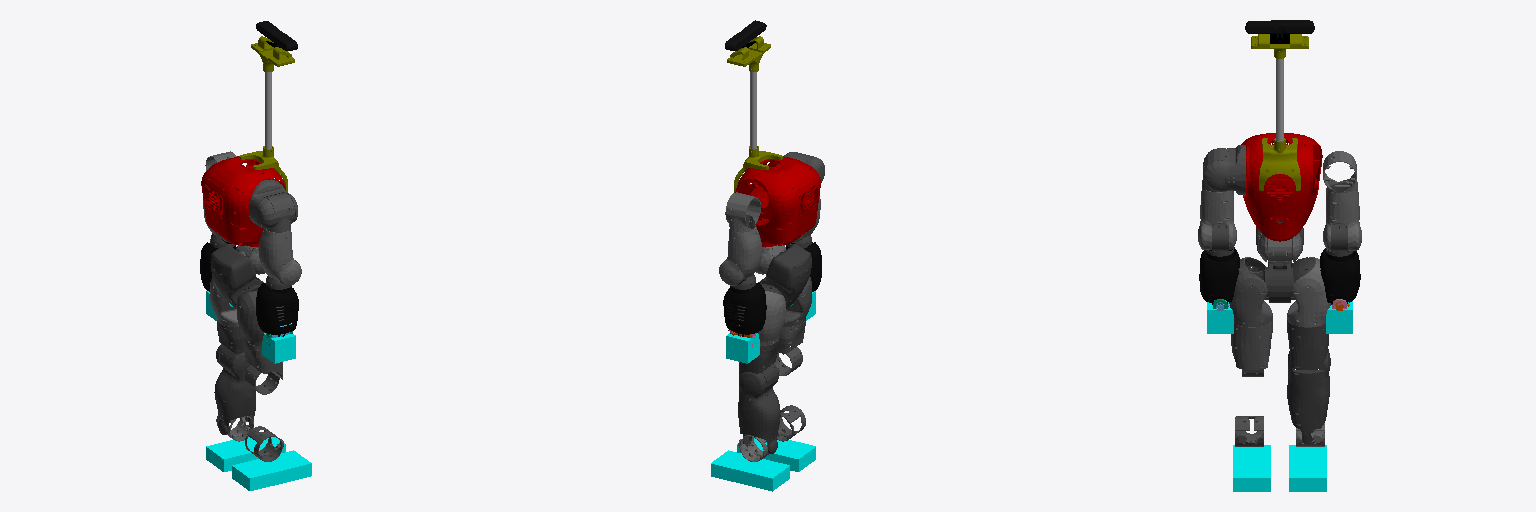
--- Facts derived from the render (not from the file) ---
The picture shows the robot from 3 angles, left to right: view 1: azimuth 30°, elevation 25°; view 2: azimuth 150°, elevation 25°; view 3: azimuth 270°, elevation 25°; orthographic projection.
Robot: COMAN — 45 links, 44 joints (31 revolute, 13 fixed); root link base_link; default pose: every joint at zero.
Links seen in each view (by area): view 1: DWYTorso, LLowLeg, RFoot, Xtion_body, Waist, RForearm, RShy, LFoot, RThighLowLeg, RShp, RThighUpLeg, RSoftHand (+5 smaller); view 2: DWYTorso, LLowLeg, LFoot, Xtion_body, Waist, LForearm, LShy, LShr, RFoot, LThighUpLeg, RThighLowLeg, LThighLowLeg (+4 smaller); view 3: DWYTorso, Xtion_body, LLowLeg, RThighUpLeg, LThighUpLeg, RThighLowLeg, LShy, RForearm, RFoot, LFoot, LForearm, LThighLowLeg (+10 smaller).
Boxes of the visible links, x1,y1,x2,y2 form: DWYTorso: [201, 156, 285, 246]; LLowLeg: [214, 344, 255, 434]; RFoot: [232, 450, 311, 490]; Xtion_body: [239, 36, 294, 192]; Waist: [210, 244, 263, 308]; RForearm: [256, 283, 298, 336]; RShy: [258, 229, 301, 285]; LFoot: [206, 437, 285, 471]; RThighLowLeg: [243, 340, 282, 394]; RShp: [249, 179, 297, 228]; RThighUpLeg: [236, 290, 283, 345]; RSoftHand: [262, 333, 295, 363]; DWYTorso: [735, 157, 820, 246]; LLowLeg: [738, 364, 780, 453]; LFoot: [711, 450, 789, 491]; Xtion_body: [727, 36, 782, 192]; Waist: [758, 244, 811, 308]; LForearm: [723, 280, 766, 336]; LShy: [719, 221, 761, 285]; LShr: [725, 192, 760, 232]; RFoot: [737, 438, 815, 471]; LThighUpLeg: [738, 291, 785, 345]; RThighLowLeg: [774, 320, 805, 375]; LThighLowLeg: [739, 340, 778, 391]; DWYTorso: [1241, 133, 1322, 241]; Xtion_body: [1251, 34, 1308, 190]; LLowLeg: [1287, 349, 1330, 444]; RThighUpLeg: [1229, 257, 1272, 326]; LThighUpLeg: [1287, 257, 1330, 326]; RThighLowLeg: [1231, 320, 1272, 376]; LShy: [1323, 181, 1361, 250]; RForearm: [1199, 247, 1239, 304]; RFoot: [1233, 445, 1270, 491]; LFoot: [1289, 445, 1326, 491]; LForearm: [1320, 248, 1360, 304]; LThighLowLeg: [1287, 320, 1328, 369].
Size in the robot's own frame: 0.2484 by 0.4296 by 1.33 metres.
27 mesh visuals loaded from 26 distinct referenced files (23 Collada DAE); not drawn: 3 (reference not matched to a file when rendering).

The robot description file, URDF, robot "COMAN":
<?xml version="1.0" ?>
<!-- =================================================================================== -->
<!-- |    This document was autogenerated by xacro from coman.urdf.xacro               | -->
<!-- |    EDITING THIS FILE BY HAND IS NOT RECOMMENDED                                 | -->
<!-- =================================================================================== -->
<robot name="COMAN" xmlns:xacro="http://ros.org/wiki/xacro">
  <!-- 
  ROS urdf definition of the COMAN humanoid robot by Istituto Italiano di Tecnologia
  
  DO NOT INCLUDE THIS FILE DIRECTLY! USE coman_robot.urdf.xacro INSTEAD!

  Author: Enrico Mingo & Alessio Rocchi

  Inertial matrix has to be in CoM frame (URDF specs)

  Velocity and effort limits are fake!
-->
  <!-- ************ MODEL CONFIGURATION ************ -->
  <!-- ******************** FAKE LINKS ******************** -->
  <!-- This links are defined in order to be compliant with http://www.ros.org/reps/rep-0120.html#coordinate-frames
and to define the end effectors of the robot -->
  <!-- The coordinate frame called base_link is rigidly attached to the robot root body. It is recommended to choose the robot waist as its root body. The base_link can be attached to the root in any arbitrary position or orientation; for every hardware platform there will be a different place on the base that provides an obvious point of reference. Note that REP 103 [1] specifies a preferred orientation for frames. -->
  <link name="base_link"/>
  <!-- position and orientation of the arm regardless of the tool (grasping device for instance) attached to it -->
  <link name="l_wrist"/>
  <link name="r_wrist"/>
  <!--  position and orientation of the leg regardless of the support body geometry -->
  <link name="l_ankle"/>
  <link name="r_ankle"/>
  <!-- position and orientation of the left leg support body. The (X,Y) plane of this frame must be coplanar with the support body contact surface. It is recommended to choose the origin as the projection of the support body origin on the contact surface. The Z coordinate of this frame should be on the ground level when standing. -->
  <link name="l_sole"/>
  <link name="r_sole"/>
  <!--  position and orientation of the leg toe body. The (X,Y) plan of this frame must be coplanar with the toe body contact surface. It is recommended to choose the origin as the projection of the body center on the contact surface. -->
  <link name="l_toe"/>
  <link name="r_toe"/>
  <!-- The coordinate frame called torso is attached to the lowest body of the model which is a parent of l_gripper, r_gripper and gaze. -->
  <link name="torso"/>
  <!-- Head -->
  <link name="Xtion_body">
    <inertial>
      <origin rpy="0 0 0" xyz="0.047 0.0 0.40"/>
      <mass value="0.39"/>
      <inertia ixx="0.01" ixy="3.34E-7" ixz="-2.66E-4" iyy="0.009" iyz="1.97E-6" izz="5.1E-4"/>
    </inertial>
    <visual>
      <origin rpy="0 0 -3.14159265359" xyz="-0.020281504 0.0 -0.68662053"/>
      <geometry name="Xtion_body_visual">
        <mesh filename="package://coman_urdf/meshes/collada/Xtion/xtion_base.dae" scale="0.03937 0.03937 0.03937"/>
      </geometry>
    </visual>
    <collision>
      <origin rpy="0 0 -3.14159265359" xyz="-0.020281504 0.0 -0.68662053"/>
      <geometry name="Xtion_body_collision">
        <mesh filename="package://coman_urdf/meshes/collada/simple/Xtion/xtion_base.stl" scale="0.03937 0.03937 0.03937"/>
      </geometry>
    </collision>
  </link>
  <link name="Xtion_cam_body">
    <inertial>
      <origin rpy="0 0 0" xyz="0.0 0.0 0.0225"/>
      <mass value="0.2"/>
      <inertia ixx="0.00053" ixy="0.0" ixz="0.0" iyy="0.00008" iyz="0.0" izz="0.00053"/>
    </inertial>
    <visual>
      <origin rpy="0 0 -3.14159265359" xyz="-0.0915 0.0 -1.2778"/>
      <geometry name="Xtion_cam_body_visual">
        <mesh filename="package://coman_urdf/meshes/collada/Xtion/xtion_cam_body.dae" scale="0.001 0.001 0.001"/>
      </geometry>
    </visual>
    <collision>
      <origin rpy="0 0 -3.14159265359" xyz="-0.0915 0.0 -1.2778"/>
      <geometry name="Xtion_cam_body_collision">
        <mesh filename="package://coman_urdf/meshes/collada/simple/Xtion/xtion_cam_body.stl" scale="0.001 0.001 0.001"/>
      </geometry>
    </collision>
  </link>
  <link name="gaze"/>
  <!-- ************ COMAN BASE ************** -->
  <link name="Waist">
    <inertial>
      <origin rpy="0 0 0" xyz="-0.026391145 -5.8216364E-4 0.052632312"/>
      <mass value="1.8008695"/>
      <inertia ixx="0.0051032982" ixy="-5.7170981E-5" ixz="0.0016920543" iyy="0.006241636" iyz="1.7225949E-5" izz="0.0024517762"/>
    </inertial>
    <visual>
      <origin rpy="0 0 -3.14159265359" xyz="0 0 -0.52"/>
      <geometry name="Waist_visual">
        <mesh filename="package://coman_urdf/meshes/collada/asm0001_collada_07_prt.dae" scale="0.03937 0.03937 0.03937"/>
      </geometry>
    </visual>
    <collision>
      <origin rpy="0 0 -3.14159265359" xyz="0 0 -0.52"/>
      <geometry name="Waist_collision">
        <mesh filename="package://coman_urdf/meshes/collada/simple/simple_asm0001_collada_07_prt.stl" scale="0.03937 0.03937 0.03937"/>
      </geometry>
    </collision>
  </link>
  <link name="DWL">
    <inertial>
      <origin rpy="0 0 0" xyz="4.2999707E-4 -0.0097650317 0.033011157"/>
      <mass value="0.54588774"/>
      <inertia ixx="9.7126578E-4" ixy="-7.2101244E-7" ixz="1.1440119E-6" iyy="7.4686706E-4" iyz="-1.7450917E-4" izz="6.2196235E-4"/>
    </inertial>
    <visual>
      <origin rpy="0 0 -3.14159265359" xyz="-0.020281504 0 -0.63912053"/>
      <geometry name="DWL_visual">
        <mesh filename="package://coman_urdf/meshes/collada/asm0001_collada_09_prt.dae" scale="0.03937 0.03937 0.03937"/>
      </geometry>
    </visual>
    <collision>
      <origin rpy="0 0 -3.14159265359" xyz="-0.020281504 0 -0.63912053"/>
      <geometry name="DWL_collision">
        <mesh filename="package://coman_urdf/meshes/collada/simple/simple_asm0001_collada_09_prt.stl" scale="0.03937 0.03937 0.03937"/>
      </geometry>
    </collision>
  </link>
  <link name="DWS">
    <inertial>
      <origin rpy="0 0 0" xyz="-0.0021273416 0.0033575235 -0.0010076896"/>
      <mass value="0.75398402"/>
      <inertia ixx="3.4093348E-4" ixy="-6.2120042E-6" ixz="-1.3863473E-6" iyy="3.9581916E-4" iyz="1.443019E-6" izz="3.7449753E-4"/>
    </inertial>
    <visual>
      <origin rpy="0 0 -3.14159265359" xyz="-0.020281504 0 -0.63912053"/>
      <geometry name="DWS_visual">
        <mesh filename="package://coman_urdf/meshes/collada/asm0001_collada_08_prt.dae" scale="0.03937 0.03937 0.03937"/>
      </geometry>
    </visual>
    <collision>
      <origin rpy="0 0 -3.14159265359" xyz="-0.020281504 0 -0.63912053"/>
      <geometry name="DWS_collision">
        <mesh filename="package://coman_urdf/meshes/collada/simple/simple_asm0001_collada_08_prt.stl" scale="0.03937 0.03937 0.03937"/>
      </geometry>
    </collision>
  </link>
  <link name="DWYTorso">
    <inertial>
      <origin rpy="0 0 0" xyz="-0.0358501 1.8286043E-5 0.117557148"/>
      <mass value="6.3617175"/>
      <inertia ixx="0.034089342" ixy="-9.8308572E-6" ixz="-7.5649290E-4" iyy="0.030117357" iyz="6.2443771E-6" izz="0.025296582"/>
    </inertial>
    <visual>
      <origin rpy="0 0 -3.14159265359" xyz="-0.020281504 0.0 -0.68662053"/>
      <geometry name="DWYTorso_visual">
        <mesh filename="package://coman_urdf/meshes/collada/asm0001_collada_10_prt.dae" scale="0.03937 0.03937 0.03937"/>
      </geometry>
    </visual>
    <collision>
      <origin rpy="0 0 -3.14159265359" xyz="-0.020281504 0.0 -0.68662053"/>
      <geometry name="DWYTorso_collision">
        <mesh filename="package://coman_urdf/meshes/collada/simple/simple_asm0001_collada_10_prt.stl" scale="0.03937 0.03937 0.03937"/>
      </geometry>
    </collision>
  </link>
  <link name="RHipMot">
    <inertial>
      <origin rpy="0 0 0" xyz="-3.269678E-4 -0.023587321 -2.6496509E-4"/>
      <mass value="0.89258227"/>
      <inertia ixx="4.7672294E-4" ixy="-3.9936567E-6" ixz="-2.4802574E-6" iyy="5.458038E-4" iyz="-3.3389575E-6" izz="5.126859E-4"/>
    </inertial>
    <visual>
      <origin rpy="0 0 -3.14159265359" xyz="0.0 0.023 -0.52"/>
      <geometry name="RHipMot_visual">
        <mesh filename="package://coman_urdf/meshes/collada/asm0001_collada_20_prt.dae" scale="0.03937 0.03937 0.03937"/>
      </geometry>
    </visual>
    <collision>
      <origin rpy="0 0 -3.14159265359" xyz="0.0 0.023 -0.52"/>
      <geometry name="RHipMot_collision">
        <mesh filename="package://coman_urdf/meshes/collada/simple/simple_asm0001_collada_20_prt.stl" scale="0.03937 0.03937 0.03937"/>
      </geometry>
    </collision>
  </link>
  <link name="RThighUpLeg">
    <inertial>
      <origin rpy="0 0 0" xyz="0.0012591632 -0.016896372 -0.058903336"/>
      <mass value="1.0246101"/>
      <inertia ixx="9.165719E-4" ixy="-1.4449904E-6" ixz="-1.6685011E-5" iyy="0.00104849584" iyz="2.5492874E-5" izz="6.8637197E-4"/>
    </inertial>
    <visual>
      <origin rpy="0 0 -3.14159265359" xyz="0.0 0.0726 -0.52"/>
      <geometry name="RThighUpLeg_visual">
        <mesh filename="package://coman_urdf/meshes/collada/asm0001_collada_19_prt.dae" scale="0.03937 0.03937 0.03937"/>
      </geometry>
    </visual>
    <collision>
      <origin rpy="0 0 -3.14159265359" xyz="0.0 0.0726 -0.52"/>
      <geometry name="RThighUpLeg_collision">
        <mesh filename="package://coman_urdf/meshes/collada/simple/simple_asm0001_collada_19_prt.stl" scale="0.03937 0.03937 0.03937"/>
      </geometry>
    </collision>
  </link>
  <link name="RThighLowLeg">
    <inertial>
      <origin rpy="0 0 0" xyz="9.8720058E-4 6.7037262E-4 -0.075716843"/>
      <mass value="1.7001134"/>
      <inertia ixx="0.0038979546" ixy="1.7802399E-6" ixz="2.6403262E-5" iyy="0.0039360845" iyz="4.522711E-5" izz="9.0218711E-4"/>
    </inertial>
    <visual>
      <origin rpy="0 0 -3.14159265359" xyz="0.0 0.0726 -0.4176"/>
      <geometry name="RThighLowLeg_visual">
        <mesh filename="package://coman_urdf/meshes/collada/asm0001_collada_18_prt.dae" scale="0.03937 0.03937 0.03937"/>
      </geometry>
    </visual>
    <collision>
      <origin rpy="0 0 -3.14159265359" xyz="0.0 0.0726 -0.4176"/>
      <geometry name="RThighLowLeg_collision">
        <mesh filename="package://coman_urdf/meshes/collada/simple/simple_asm0001_collada_18_prt.stl" scale="0.03937 0.03937 0.03937"/>
      </geometry>
    </collision>
  </link>
  <link name="RLowLeg">
    <inertial>
      <origin rpy="0 0 0" xyz="0.0024612666 -0.0053099614 -0.08598948"/>
      <mass value="1.4098179"/>
      <inertia ixx="0.0040604004" ixy="1.1227206E-5" ixz="1.2260973E-5" iyy="0.004005652855" iyz="5.1899176E-4" izz="0.0012414054"/>
    </inertial>
    <visual>
      <origin rpy="0 0 -3.14159265359" xyz="0.0 0.0726 -0.2942"/>
      <geometry name="RLowLeg_visual">
        <mesh filename="package://coman_urdf/meshes/collada/asm0001_collada_17_prt.dae" scale="0.03937 0.03937 0.03937"/>
      </geometry>
    </visual>
    <collision>
      <origin rpy="0 0 -3.14159265359" xyz="0.0 0.0726 -0.2942"/>
      <geometry name="RLowLeg_collision">
        <mesh filename="package://coman_urdf/meshes/collada/simple/simple_asm0001_collada_17_prt.stl" scale="0.03937 0.03937 0.03937"/>
      </geometry>
    </collision>
  </link>
  <link name="RFootmot">
    <inertial>
      <origin rpy="0 0 0" xyz="8.8067281E-4 -9.2224881E-4 2.3038476E-4"/>
      <mass value="0.72992131"/>
      <inertia ixx="3.2034425E-4" ixy="7.6346303E-6" ixz="2.5430158E-7" iyy="3.6584358E-4" iyz="-3.6889276E-6" izz="3.6065156E-4"/>
    </inertial>
    <visual>
      <origin rpy="0 0 -3.14159265359" xyz="0.0 0.0726 -0.0932"/>
      <geometry name="RFootmot_visual">
        <mesh filename="package://coman_urdf/meshes/collada/asm0001_collada_16_prt.dae" scale="0.03937 0.03937 0.03937"/>
      </geometry>
    </visual>
    <collision>
      <origin rpy="0 0 -3.14159265359" xyz="0.0 0.0726 -0.0932"/>
      <geometry name="RFootmot_collision">
        <mesh filename="package://coman_urdf/meshes/collada/simple/simple_asm0001_collada_16_prt.stl" scale="0.03937 0.03937 0.03937"/>
      </geometry>
    </collision>
  </link>
  <link name="RFoot">
    <inertial>
      <origin rpy="0 0 0" xyz="0.00969210464 -0.0090460227 -0.043062308"/>
      <mass value="0.66646684"/>
      <inertia ixx="0.0012944808" ixy="-9.2387693E-5" ixz="2.0080105E-4" iyy="0.0015851846" iyz="2.7599327E-4" izz="0.0013326766"/>
    </inertial>
    <visual>
      <origin rpy="0 0 0" xyz="0.03 0 -0.09"/>
      <geometry>
        <box size="0.2 0.1 0.04"/>
      </geometry>
      <material name="Cyan">
        <color rgba="0 1.0 1.0 1.0"/>
      </material>
    </visual>
    <collision>
      <origin rpy="0 0 0" xyz="0.03 0 -0.09"/>
      <geometry>
        <box size="0.2 0.1 0.04"/>
      </geometry>
    </collision>
  </link>
  <link name="LHipMot">
    <inertial>
      <origin rpy="0 0 0" xyz="-3.269678E-4 0.023587321 -2.6496509E-4"/>
      <mass value="0.89258227"/>
      <inertia ixx="4.7672294E-4" ixy="3.9936567E-6" ixz="-2.4802574E-6" iyy="5.458038E-4" iyz="3.3389575E-6" izz="5.126859E-4"/>
    </inertial>
    <visual>
      <origin rpy="0 0 -3.14159265359" xyz="0.0 -0.023 -0.52"/>
      <geometry name="RHipMot_visual">
        <mesh filename="package://coman_urdf/meshes/collada/asm0001_collada_06_prt.dae" scale="0.03937 0.03937 0.03937"/>
      </geometry>
    </visual>
    <collision>
      <origin rpy="0 0 -3.14159265359" xyz="0.0 -0.023 -0.52"/>
      <geometry name="RHipMot_collision">
        <mesh filename="package://coman_urdf/meshes/collada/simple/simple_asm0001_collada_06_prt.stl" scale="0.03937 0.03937 0.03937"/>
      </geometry>
    </collision>
  </link>
  <link name="LThighUpLeg">
    <inertial>
      <origin rpy="0 0 0" xyz="0.0012591632 0.016896372 -0.058903336"/>
      <mass value="1.0246101"/>
      <inertia ixx="9.165719E-4" ixy="1.4449904E-6" ixz="-1.6685011E-5" iyy="0.00104849584" iyz="-2.5492874E-5" izz="6.8637197E-4"/>
    </inertial>
    <visual>
      <origin rpy="0 0 -3.14159265359" xyz="0.0 -0.0726 -0.52"/>
      <geometry name="LThighUpLeg_visual">
        <mesh filename="package://coman_urdf/meshes/collada/asm0001_collada_05_prt.dae" scale="0.03937 0.03937 0.03937"/>
      </geometry>
    </visual>
    <collision>
      <origin rpy="0 0 -3.14159265359" xyz="0.0 -0.0726 -0.52"/>
      <geometry name="LThighUpLeg_collision">
        <mesh filename="package://coman_urdf/meshes/collada/simple/simple_asm0001_collada_05_prt.stl" scale="0.03937 0.03937 0.03937"/>
      </geometry>
    </collision>
  </link>
  <link name="LThighLowLeg">
    <inertial>
      <origin rpy="0 0 0" xyz="9.8720058E-4 -6.7037262E-4 -0.075716843"/>
      <mass value="1.7001134"/>
      <inertia ixx="0.0038979546" ixy="-1.7802399E-6" ixz="2.6403262E-5" iyy="0.0039360845" iyz="-4.5227110E-5" izz="9.0218711E-4"/>
    </inertial>
    <visual>
      <origin rpy="0 0 -3.14159265359" xyz="0.0 -0.0726 -0.4176"/>
      <geometry name="LThighLowLeg_visual">
        <mesh filename="package://coman_urdf/meshes/collada/asm0001_collada_04_prt.dae" scale="0.03937 0.03937 0.03937"/>
      </geometry>
    </visual>
    <collision>
      <origin rpy="0 0 -3.14159265359" xyz="0.0 -0.0726 -0.4176"/>
      <geometry name="LThighLowLeg_collision">
        <mesh filename="package://coman_urdf/meshes/collada/simple/simple_asm0001_collada_04_prt.stl" scale="0.03937 0.03937 0.03937"/>
      </geometry>
    </collision>
  </link>
  <link name="LLowLeg">
    <inertial>
      <origin rpy="0 0 0" xyz="0.0024612666 0.0053099614 -0.085989484"/>
      <mass value="1.4098179"/>
      <inertia ixx="0.0040604004" ixy="-1.1227206E-5" ixz="1.2260973E-5" iyy="0.004005652855" iyz="-5.1899176E-4" izz="0.0012414054"/>
    </inertial>
    <visual>
      <origin rpy="0 0 -3.14159265359" xyz="0.0 -0.0726 -0.2942"/>
      <geometry name="LLowLeg_visual">
        <mesh filename="package://coman_urdf/meshes/collada/asm0001_collada_03_prt.dae" scale="0.03937 0.03937 0.03937"/>
      </geometry>
    </visual>
    <collision>
      <origin rpy="0 0 -3.14159265359" xyz="0.0 -0.0726 -0.2942"/>
      <geometry name="LLowLeg_collision">
        <mesh filename="package://coman_urdf/meshes/collada/simple/simple_asm0001_collada_03_prt.stl" scale="0.03937 0.03937 0.03937"/>
      </geometry>
    </collision>
  </link>
  <link name="LFootmot">
    <inertial>
      <origin rpy="0 0 0" xyz="8.8067281E-4 9.2224881E-4 2.3038476E-4"/>
      <mass value="0.72992131"/>
      <inertia ixx="3.2034425E-4" ixy="-7.6346303E-6" ixz="2.5430158E-7" iyy="3.6584358E-4" iyz="3.6889276E-6" izz="3.6065156E-4"/>
    </inertial>
    <visual>
      <origin rpy="0 0 -3.14159265359" xyz="0.0 -0.0726 -0.0932"/>
      <geometry name="LFootmot_visual">
        <mesh filename="package://coman_urdf/meshes/collada/asm0001_collada_02_prt.dae" scale="0.03937 0.03937 0.03937"/>
      </geometry>
    </visual>
    <collision>
      <origin rpy="0 0 -3.14159265359" xyz="0.0 -0.0726 -0.0932"/>
      <geometry name="LFootmot_collision">
        <mesh filename="package://coman_urdf/meshes/collada/simple/simple_asm0001_collada_02_prt.stl" scale="0.03937 0.03937 0.03937"/>
      </geometry>
    </collision>
  </link>
  <link name="LFoot">
    <inertial>
      <origin rpy="0 0 0" xyz="0.0096921046 0.0090460227 -0.043062308"/>
      <mass value="0.66646684"/>
      <inertia ixx="0.0012944808" ixy="9.2387693E-5" ixz="2.0080105E-4" iyy="0.0015851846" iyz="-2.7599327E-4" izz="0.0013326766"/>
    </inertial>
    <visual>
      <origin rpy="0 0 0" xyz="0.03 0 -0.09"/>
      <geometry>
        <box size="0.2 0.1 0.04"/>
      </geometry>
      <material name="Cyan">
        <color rgba="0 1.0 1.0 1.0"/>
      </material>
    </visual>
    <collision>
      <origin rpy="0 0 0" xyz="0.03 0 -0.09"/>
      <geometry>
        <box size="0.2 0.1 0.04"/>
      </geometry>
    </collision>
  </link>
  <link name="RShp">
    <inertial>
      <origin rpy="0 0 0" xyz="0.0099500565 -0.038682024 1.6446924E-4"/>
      <mass value="0.56782202"/>
      <inertia ixx="7.8337456E-4" ixy="1.9035768E-4" ixz="-3.0037676E-6" iyy="6.3399921E-4" iyz="4.3840774E-6" izz="0.001008054"/>
    </inertial>
    <visual>
      <origin rpy="0 0 -3.14159265359" xyz="-0.005305 0.0825 -0.844329"/>
      <geometry name="RShp_visual">
        <mesh filename="package://coman_urdf/meshes/collada/asm0001_collada_24_prt.dae" scale="0.03937 0.03937 0.03937"/>
      </geometry>
    </visual>
    <collision>
      <origin rpy="0 0 -3.14159265359" xyz="-0.005305 0.0825 -0.844329"/>
      <geometry name="RShp_collision">
        <mesh filename="package://coman_urdf/meshes/collada/simple/simple_asm0001_collada_24_prt.stl" scale="0.03937 0.03937 0.03937"/>
      </geometry>
    </collision>
  </link>
  <link name="RShr">
    <inertial>
      <origin rpy="0 0 0" xyz="-0.0038936743 2.2022151E-6 -0.0048616005"/>
      <mass value="0.77683752"/>
      <inertia ixx="4.5812904E-4" ixy="-2.4111086E-7" ixz="9.2521185E-6" iyy="4.3089204E-4" iyz="-4.7216950E-7" izz="3.4174855E-4"/>
    </inertial>
    <visual>
      <origin rpy="0 0 -3.14159265359" xyz="-0.005305 0.1558 -0.844329"/>
      <geometry name="RShr_visual">
        <mesh filename="package://coman_urdf/meshes/collada/asm0001_collada_23_prt.dae" scale="0.03937 0.03937 0.03937"/>
      </geometry>
    </visual>
    <collision>
      <origin rpy="0 0 -3.14159265359" xyz="-0.005305 0.1558 -0.844329"/>
      <geometry name="RShr_collision">
        <mesh filename="package://coman_urdf/meshes/collada/simple/simple_asm0001_collada_23_prt.stl" scale="0.03937 0.03937 0.03937"/>
      </geometry>
    </collision>
  </link>
  <link name="RShy">
    <inertial>
      <origin rpy="0 0 0" xyz="0.0022714213 -0.0071091517 -0.057455221"/>
      <mass value="1.0462304"/>
      <inertia ixx="0.0030934574" ixy="6.6702837E-5" ixz="3.0222291E-4" iyy="0.0029181573" iyz="-5.2663661E-4" izz="8.0830389E-4"/>
    </inertial>
    <visual>
      <origin rpy="0 0 -3.14159265359" xyz="-0.005305 0.1558 -0.79952053"/>
      <geometry name="RShy_visual">
        <mesh filename="package://coman_urdf/meshes/collada/asm0001_collada_22_prt.dae" scale="0.03937 0.03937 0.03937"/>
      </geometry>
    </visual>
    <collision>
      <origin rpy="0 0 -3.14159265359" xyz="-0.005305 0.1558 -0.79952053"/>
      <geometry name="RShy_collision">
        <mesh filename="package://coman_urdf/meshes/collada/simple/simple_asm0001_collada_22_prt.stl" scale="0.03937 0.03937 0.03937"/>
      </geometry>
    </collision>
  </link>
  <link name="LShp">
    <inertial>
      <origin rpy="0 0 0" xyz="0.0099500565 0.038682024 1.6446924E-4"/>
      <mass value="0.56782202"/>
      <inertia ixx="7.8337456E-4" ixy="-1.9035768E-4" ixz="-3.0037676E-6" iyy="6.3399921E-4" iyz="-4.3840774E-6" izz="0.001008054"/>
    </inertial>
    <visual>
      <origin rpy="0 0 -3.14159265359" xyz="-0.005305 -0.0825 -0.844329"/>
      <geometry name="LShp_visual">
        <mesh filename="package://coman_urdf/meshes/collada/asm0001_collada_14_prt.dae" scale="0.03937 0.03937 0.03937"/>
      </geometry>
    </visual>
    <collision>
      <origin rpy="0 0 -3.14159265359" xyz="-0.005305 -0.0825 -0.844329"/>
      <geometry name="LShp_collision">
        <mesh filename="package://coman_urdf/meshes/collada/simple/simple_asm0001_collada_14_prt.stl" scale="0.03937 0.03937 0.03937"/>
      </geometry>
    </collision>
  </link>
  <link name="LShr">
    <inertial>
      <origin rpy="0 0 0" xyz="-0.0038936743 -2.2022151E-6 -0.0048616005"/>
      <mass value="0.77683752"/>
      <inertia ixx="4.5812904E-4" ixy="2.4111086E-7" ixz="9.2521185E-6" iyy="4.3089204E-4" iyz="4.721695E-7" izz="3.4174855E-4"/>
    </inertial>
    <visual>
      <origin rpy="0 0 -3.14159265359" xyz="-0.005305 -0.1558 -0.844329"/>
      <geometry name="LShr_visual">
        <mesh filename="package://coman_urdf/meshes/collada/asm0001_collada_13_prt.dae" scale="0.03937 0.03937 0.03937"/>
      </geometry>
    </visual>
    <collision>
      <origin rpy="0 0 -3.14159265359" xyz="-0.005305 -0.1558 -0.844329"/>
      <geometry name="LShr_collision">
        <mesh filename="package://coman_urdf/meshes/collada/simple/simple_asm0001_collada_13_prt.stl" scale="0.03937 0.03937 0.03937"/>
      </geometry>
    </collision>
  </link>
  <link name="LShy">
    <inertial>
      <origin rpy="0 0 0" xyz="0.0022714213 0.0071091517 -0.057455221"/>
      <mass value="1.0462304"/>
      <inertia ixx="0.0030934574" ixy="-6.6702837E-5" ixz="3.0222291E-4" iyy="0.0029181573" iyz="5.2663661E-4" izz="8.0830389E-4"/>
    </inertial>
    <visual>
      <origin rpy="0 0 -3.14159265359" xyz="-0.005305 -0.1558 -0.79952053"/>
      <geometry name="LShy_visual">
        <mesh filename="package://coman_urdf/meshes/collada/asm0001_collada_12_prt.dae" scale="0.03937 0.03937 0.03937"/>
      </geometry>
    </visual>
    <collision>
      <origin rpy="0 0 -3.14159265359" xyz="-0.005305 -0.1558 -0.79952053"/>
      <geometry name="LShy_collision">
        <mesh filename="package://coman_urdf/meshes/collada/simple/simple_asm0001_collada_12_prt.stl" scale="0.03937 0.03937 0.03937"/>
      </geometry>
    </collision>
  </link>
  <joint name="base_joint" type="fixed">
    <parent link="base_link"/>
    <child link="Waist"/>
    <origin rpy="0 0 0" xyz="0 0 0"/>
  </joint>
  <joint name="l_ankle_joint" type="fixed">
    <parent link="LFoot"/>
    <child link="l_ankle"/>
    <origin rpy="0 0 0" xyz="0 0 0"/>
  </joint>
  <joint name="r_ankle_joint" type="fixed">
    <parent link="RFoot"/>
    <child link="r_ankle"/>
    <origin rpy="0 0 0" xyz="0 0 0"/>
  </joint>
  <joint name="l_sole_joint" type="fixed">
    <parent link="LFoot"/>
    <child link="l_sole"/>
    <origin rpy="0 0 0" xyz="0 0 -0.09"/>
  </joint>
  <joint name="r_sole_joint" type="fixed">
    <parent link="RFoot"/>
    <child link="r_sole"/>
    <origin rpy="0 0 0" xyz="0 0 -0.09"/>
  </joint>
  <joint name="l_toe_joint" type="fixed">
    <parent link="l_sole"/>
    <child link="l_toe"/>
    <origin rpy="0 0 0" xyz="0.13 0 0"/>
  </joint>
  <joint name="r_toe_joint" type="fixed">
    <parent link="r_sole"/>
    <child link="r_toe"/>
    <origin rpy="0 0 0" xyz="0.13 0 0"/>
  </joint>
  <joint name="torso_joint" type="fixed">
    <parent link="DWYTorso"/>
    <child link="torso"/>
    <origin rpy="0 0 0" xyz="-0.014976503999999998 0 0.15770847"/>
  </joint>
  <joint name="Xtion_body_joint" type="fixed">
    <parent link="DWYTorso"/>
    <child link="Xtion_body"/>
    <origin rpy="0 0 0" xyz="0 0 0"/>
  </joint>
  <joint name="Xtion_cam_body_joint" type="fixed">
    <parent link="Xtion_body"/>
    <child link="Xtion_cam_body"/>
    <!-- origin xyz="0.071 0 0.591" rpy="0 1.396 0" / -->
    <origin rpy="0 0 0" xyz="0.071 0 0.591"/>
    <!--axis xyz="0 1 0" />
    		<limit velocity="4.0" effort="5" lower="-0.4145" upper="1.57075" />
    		<dynamics friction="0" damping="3.0"/-->
  </joint>
  <joint name="gaze_joint" type="fixed">
    <parent link="Xtion_cam_body"/>
    <child link="gaze"/>
    <origin rpy="0 0 0" xyz="0.015 0 0.022"/>
  </joint>
  <joint name="WaistLat" type="revolute">
    <!-- Wrong name! need to fix this... -->
    <parent link="Waist"/>
    <child link="DWL"/>
    <origin rpy="0 0 0" xyz="0.020281504 0 0.11912053"/>
    <axis xyz="0.939692608 0 0.3420201433"/>
    <limit effort="50" lower="-0.5236" upper="0.5235" velocity="4.0"/>
    <!-- dynamics friction="0" damping="0.3"/ -->
    <dynamics damping="3.0" friction="0"/>
  </joint>
  <joint name="WaistSag" type="revolute">
    <!-- Wrong name! need to fix this... -->
    <parent link="DWL"/>
    <child link="DWS"/>
    <origin rpy="0 0 0" xyz="0 0 0"/>
    <axis xyz="0 1 0"/>
    <limit effort="50" lower="-0.3491" upper="0.8727" velocity="4.0"/>
    <dynamics damping="3.0" friction="0"/>
  </joint>
  <joint name="WaistYaw" type="revolute">
    <parent link="DWS"/>
    <child link="DWYTorso"/>
    <origin rpy="0 0 0" xyz="0 0 0.04749999"/>
    <axis xyz="0 0 1"/>
    <limit effort="50" lower="-1.3963" upper="1.3962" velocity="4.0"/>
    <dynamics damping="3.0" friction="0"/>
  </joint>
  <joint name="RHipSag" type="revolute">
    <parent link="Waist"/>
    <child link="RHipMot"/>
    <origin rpy="0 0 0" xyz="0.0 -0.023 0.0"/>
    <axis xyz="0 1 0"/>
    <limit effort="50" lower="-1.9199" upper="0.7854" velocity="4.0"/>
    <dynamics damping="3.0" friction="0"/>
  </joint>
  <joint name="RHipLat" type="revolute">
    <parent link="RHipMot"/>
    <child link="RThighUpLeg"/>
    <origin rpy="0 0 0" xyz="0.0 -0.0496 0.0"/>
    <axis xyz="1 0 0"/>
    <limit effort="50" lower="-1.0472" upper="0.4363" velocity="4.0"/>
    <dynamics damping="3.0" friction="0"/>
  </joint>
  <joint name="RHipYaw" type="revolute">
    <parent link="RThighUpLeg"/>
    <child link="RThighLowLeg"/>
    <origin rpy="0 0 0" xyz="0.0 0.0 -0.1024"/>
    <axis xyz="0 0 1"/>
    <limit effort="50" lower="-0.8727" upper="0.8727" velocity="4.0"/>
    <dynamics damping="3.0" friction="0"/>
  </joint>
  <joint name="RKneeSag" type="revolute">
    <parent link="RThighLowLeg"/>
    <child link="RLowLeg"/>
    <origin rpy="0 0 0" xyz="0.0 0.0 -0.1234"/>
    <axis xyz="0 1 0"/>
    <limit effort="50" lower="-0.1745" upper="1.9199" velocity="4.0"/>
    <dynamics damping="3.0" friction="0"/>
  </joint>
  <joint name="RAnkLat" type="revolute">
    <parent link="RLowLeg"/>
    <child link="RFootmot"/>
    <origin rpy="0 0 0" xyz="0.0 0.0 -0.201"/>
    <axis xyz="1 0 0"/>
    <limit effort="50" lower="-0.6109" upper="0.6109" velocity="4.0"/>
    <dynamics damping="3.0" friction="0"/>
  </joint>
  <joint name="RAnkSag" type="revolute">
    <parent link="RFootmot"/>
    <child link="RFoot"/>
    <origin rpy="0 0 0" xyz="0.0 0.0 0.0"/>
    <axis xyz="0 1 0"/>
    <limit effort="50" lower="-1.2217" upper="1.2217" velocity="4.0"/>
    <dynamics damping="3.0" friction="0"/>
  </joint>
  <joint name="LHipSag" type="revolute">
    <parent link="Waist"/>
    <child link="LHipMot"/>
    <origin rpy="0 0 0" xyz="0.0 0.023 0.0"/>
    <axis xyz="0 1 0"/>
    <limit effort="50" lower="-1.9199" upper="0.7854" velocity="4.0"/>
    <dynamics damping="3.0" friction="0"/>
  </joint>
  <joint name="LHipLat" type="revolute">
    <parent link="LHipMot"/>
    <child link="LThighUpLeg"/>
    <origin rpy="0 0 0" xyz="0.0 0.0496 0.0"/>
    <axis xyz="1 0 0"/>
    <limit effort="50" lower="-0.4363" upper="1.0472" velocity="4.0"/>
    <dynamics damping="3.0" friction="0"/>
  </joint>
  <joint name="LHipYaw" type="revolute">
    <parent link="LThighUpLeg"/>
    <child link="LThighLowLeg"/>
    <origin rpy="0 0 0" xyz="0.0 0.0 -0.1024"/>
    <axis xyz="0 0 1"/>
    <limit effort="50" lower="-0.8727" upper="0.8727" velocity="4.0"/>
    <dynamics damping="3.0" friction="0"/>
  </joint>
  <joint name="LKneeSag" type="revolute">
    <parent link="LThighLowLeg"/>
    <child link="LLowLeg"/>
    <origin rpy="0 0 0" xyz="0.0 0.0 -0.1234"/>
    <axis xyz="0 1 0"/>
    <limit effort="50" lower="-0.1745" upper="1.9199" velocity="4.0"/>
    <dynamics damping="3.0" friction="0"/>
  </joint>
  <joint name="LAnkLat" type="revolute">
    <parent link="LLowLeg"/>
    <child link="LFootmot"/>
    <origin rpy="0 0 0" xyz="0.0 0.0 -0.201"/>
    <axis xyz="1 0 0"/>
    <limit effort="50" lower="-0.6109" upper="0.6109" velocity="4.0"/>
    <dynamics damping="3.0" friction="0"/>
  </joint>
  <joint name="LAnkSag" type="revolute">
    <parent link="LFootmot"/>
    <child link="LFoot"/>
    <origin rpy="0 0 0" xyz="0.0 0.0 0.0"/>
    <axis xyz="0 1 0"/>
    <limit effort="50" lower="-1.2217" upper="1.2217" velocity="4.0"/>
    <dynamics damping="3.0" friction="0"/>
  </joint>
  <joint name="RShSag" type="revolute">
    <parent link="DWYTorso"/>
    <child link="RShp"/>
    <origin rpy="0 0 0" xyz="-0.014976503999999998 -0.0825 0.15770847"/>
    <axis xyz="0 1 0"/>
    <limit effort="50" lower="-3.4034" upper="1.6581" velocity="4.0"/>
    <dynamics damping="3.0" friction="0"/>
  </joint>
  <joint name="RShLat" type="revolute">
    <parent link="RShp"/>
    <child link="RShr"/>
    <origin rpy="0 0 0" xyz="0.0 -0.07329999999999999 0.0"/>
    <axis xyz="1 0 0"/>
    <limit effort="50" lower="-2.094" upper="0.31415" velocity="4.0"/>
    <dynamics damping="3.0" friction="0"/>
  </joint>
  <joint name="RShYaw" type="revolute">
    <parent link="RShr"/>
    <child link="RShy"/>
    <origin rpy="0 0 0" xyz="0.0 0.0 -0.04480846999999999"/>
    <axis xyz="0 0 1"/>
    <limit effort="50" lower="-1.5708" upper="1.5708" velocity="4.0"/>
    <dynamics damping="3.0" friction="0"/>
  </joint>
  <joint name="RElbj" type="revolute">
    <parent link="RShy"/>
    <child link="RElb"/>
    <origin rpy="0 0 0" xyz="0.015 0.0 -0.13519152999999998"/>
    <axis xyz="0 1 0"/>
    <limit effort="50" lower="-2.3562" upper="0.0" velocity="4.0"/>
    <dynamics damping="3.0" friction="0"/>
  </joint>
  <joint name="LShSag" type="revolute">
    <parent link="DWYTorso"/>
    <child link="LShp"/>
    <origin rpy="0 0 0" xyz="-0.014976503999999998 0.0825 0.15770847"/>
    <axis xyz="0 1 0"/>
    <limit effort="50" lower="-3.4034" upper="1.6581" velocity="4.0"/>
    <dynamics damping="3.0" friction="0"/>
  </joint>
  <joint name="LShLat" type="revolute">
    <parent link="LShp"/>
    <child link="LShr"/>
    <origin rpy="0 0 0" xyz="0.0 0.07329999999999999 0.0"/>
    <axis xyz="1 0 0"/>
    <limit effort="50" lower="-0.31415" upper="2.094" velocity="4.0"/>
    <dynamics damping="3.0" friction="0"/>
  </joint>
  <joint name="LShYaw" type="revolute">
    <parent link="LShr"/>
    <child link="LShy"/>
    <origin rpy="0 0 0" xyz="0.0 0.0 -0.04480846999999999"/>
    <axis xyz="0 0 1"/>
    <limit effort="50" lower="-1.5708" upper="1.5708" velocity="4.0"/>
    <dynamics damping="3.0" friction="0"/>
  </joint>
  <joint name="LElbj" type="revolute">
    <parent link="LShy"/>
    <child link="LElb"/>
    <origin rpy="0 0 0" xyz="0.015 0.0 -0.13519152999999998"/>
    <axis xyz="0 1 0"/>
    <limit effort="50" lower="-2.3562" upper="0.0" velocity="4.0"/>
    <dynamics damping="3.0" friction="0"/>
  </joint>
  <!-- ************ FOREARMS ************ -->
  <link name="LElb">
    <inertial>
      <origin rpy="0 0 0" xyz="-6.5553403E-4 9.3464748E-4 -9.3101289E-4"/>
      <mass value="0.63306933"/>
      <inertia ixx="2.2599075E-4" ixy="2.6376470E-7" ixz="-9.8007285E-6" iyy="2.7781302E-4" iyz="2.0435288E-6" izz="2.1878992E-4"/>
    </inertial>
    <visual>
      <origin rpy="-1.570796326795 1.570796326795 0" xyz="0 0 0"/>
      <geometry name="LElb_visual">
        <mesh filename="package://coman_urdf/meshes/collada/forearms/elbow.dae" scale="1.0 1.0 1.0"/>
      </geometry>
    </visual>
    <collision>
      <origin rpy="-1.570796326795 1.570796326795 0" xyz="0 0 0"/>
      <geometry name="LElb_collision">
        <mesh filename="package://coman_urdf/meshes/collada/simple/forearms/elbow.stl" scale="1.0 1.0 1.0"/>
      </geometry>
    </collision>
  </link>
  <link name="LForearm">
    <inertial>
      <origin rpy="0 0 0" xyz="0 0 -0.0282"/>
      <mass value="0.93351655"/>
      <inertia ixx="0.001" ixy="0.0" ixz="0.0" iyy="0.001" iyz="0.0" izz="0.001"/>
    </inertial>
    <visual>
      <origin rpy="3.14159265359 0 1.570796326795" xyz="0 0 0.0718"/>
      <geometry name="LForearm_visual">
        <mesh filename="package://coman_urdf/meshes/collada/forearms/forearm_lowpoly.dae" scale="0.1 0.1 0.1"/>
      </geometry>
    </visual>
    <collision>
      <origin rpy="0 3.14159265359 1.570796326795" xyz="0 0 0.0718"/>
      <geometry name="LForearm_collision">
        <mesh filename="package://coman_urdf/meshes/collada/simple/forearms/forearm.stl" scale="1.0 1.0 1.0"/>
      </geometry>
    </collision>
  </link>
  <link name="LWrMot2">
    <inertial>
      <origin rpy="0 0 0" xyz="0 0 0"/>
      <mass value="0.26070556"/>
      <inertia ixx="0.000132" ixy="0" ixz="0" iyy="0.000132" iyz="0" izz="5.213E-5"/>
    </inertial>
    <visual>
      <origin rpy="0 1.570796326795 3.14159265359" xyz="0.025 0 0"/>
      <geometry name="LWrMot2_visual">
        <mesh filename="package://coman_urdf/meshes/collada/forearms/fa_asm_3_right_sw0001.dae" scale="0.001 0.001 0.001"/>
      </geometry>
    </visual>
    <collision>
      <origin rpy="0 1.570796326795 3.14159265359" xyz="0.025 0 0"/>
      <geometry name="LWrMot2_collision">
        <mesh filename="package://coman_urdf/meshes/collada/simple/forearms/simple_fa_asm_3_right_sw0001.stl" scale="0.001 0.001 0.001"/>
      </geometry>
    </collision>
  </link>
  <link name="LWrMot3">
    <inertial>
      <origin rpy="0 0 0" xyz="0 0 0"/>
      <mass value="0.054007518"/>
      <inertia ixx="2.16E-5" ixy="0" ixz="0" iyy="2.16E-5" iyz="0" izz="2.16E-5"/>
    </inertial>
    <visual>
      <origin rpy="0 3.14159265359 1.570796326795" xyz="0.025 -0.012 -0.02"/>
      <geometry name="LWrMot3_visual">
        <mesh filename="package://coman_urdf/meshes/collada/forearms/fa_hand_interface_rig_sw0001.dae" scale="0.001 0.001 0.001"/>
      </geometry>
    </visual>
    <collision>
      <origin rpy="0 3.14159265359 1.570796326795" xyz="0.025 -0.012 -0.02"/>
      <geometry name="LWrMot3_collision">
        <mesh filename="package://coman_urdf/meshes/collada/simple/forearms/simple_fa_hand_interface_rig_sw0001.stl" scale="0.001 0.001 0.001"/>
      </geometry>
    </collision>
  </link>
  <link name="RElb">
    <inertial>
      <origin rpy="0 0 0" xyz="-6.5553403E-4 -9.3464748E-4 -9.3101289E-4"/>
      <mass value="0.63306933"/>
      <inertia ixx="2.2599075E-4" ixy="-2.6376470E-7" ixz="-9.8007285E-6" iyy="2.7781302E-4" iyz="-2.0435288E-6" izz="2.1878992E-4"/>
    </inertial>
    <visual>
      <origin rpy="-1.570796326795 1.570796326795 0" xyz="0 0 0"/>
      <geometry name="RElb_visual">
        <mesh filename="package://coman_urdf/meshes/collada/forearms/elbow.dae" scale="1.0 1.0 1.0"/>
      </geometry>
    </visual>
    <collision>
      <origin rpy="-1.570796326795 1.570796326795 0" xyz="0 0 0"/>
      <geometry name="RElb_collision">
        <mesh filename="package://coman_urdf/meshes/collada/simple/forearms/elbow.stl" scale="1.0 1.0 1.0"/>
      </geometry>
    </collision>
  </link>
  <link name="RForearm">
    <inertial>
      <origin rpy="0 0 0" xyz="0 0 -0.0282"/>
      <mass value="0.93351655"/>
      <inertia ixx="0.001" ixy="0.0" ixz="0.0" iyy="0.001" iyz="0.0" izz="0.001"/>
    </inertial>
    <visual>
      <origin rpy="3.14159265359 0 1.570796326795" xyz="0 0 0.0718"/>
      <geometry name="RForearm_visual">
        <mesh filename="package://coman_urdf/meshes/collada/forearms/forearm_lowpoly.dae" scale="0.1 0.1 0.1"/>
      </geometry>
    </visual>
    <collision>
      <origin rpy="0 3.14159265359 1.570796326795" xyz="0 0 0.0718"/>
      <geometry name="RForearm_collision">
        <mesh filename="package://coman_urdf/meshes/collada/simple/forearms/forearm.stl" scale="1.0 1.0 1.0"/>
      </geometry>
    </collision>
  </link>
  <link name="RWrMot2">
    <inertial>
      <origin rpy="0 0 0" xyz="0 0 0"/>
      <mass value="0.26070556"/>
      <inertia ixx="0.000132" ixy="0" ixz="0" iyy="0.000132" iyz="0" izz="5.213E-5"/>
    </inertial>
    <visual>
      <origin rpy="0 1.570796326795 3.14159265359" xyz="0.025 0 0"/>
      <geometry name="RWrMot2_visual">
        <mesh filename="package://coman_urdf/meshes/collada/forearms/fa_asm_3_right_sw0001.dae" scale="0.001 0.001 0.001"/>
      </geometry>
    </visual>
    <collision>
      <origin rpy="0 1.570796326795 3.14159265359" xyz="0.025 0 0"/>
      <geometry name="RWrMot2_collision">
        <mesh filename="package://coman_urdf/meshes/collada/simple/forearms/simple_fa_asm_3_right_sw0001.stl" scale="0.001 0.001 0.001"/>
      </geometry>
    </collision>
  </link>
  <link name="RWrMot3">
    <inertial>
      <origin rpy="0 0 0" xyz="0 0 0"/>
      <mass value="0.054007518"/>
      <inertia ixx="2.16E-5" ixy="0" ixz="0" iyy="2.16E-5" iyz="0" izz="2.16E-5"/>
    </inertial>
    <visual>
      <origin rpy="0 3.14159265359 1.570796326795" xyz="0.025 -0.012 -0.02"/>
      <geometry name="RWrMot3_visual">
        <mesh filename="package://coman_urdf/meshes/collada/forearms/fa_hand_interface_rig_sw0001.dae" scale="0.001 0.001 0.001"/>
      </geometry>
    </visual>
    <collision>
      <origin rpy="0 3.14159265359 1.570796326795" xyz="0.025 -0.012 -0.02"/>
      <geometry name="RWrMot3_collision">
        <mesh filename="package://coman_urdf/meshes/collada/simple/forearms/simple_fa_hand_interface_rig_sw0001.stl" scale="0.001 0.001 0.001"/>
      </geometry>
    </collision>
  </link>
  <joint name="LForearmPlate" type="revolute">
    <parent link="LElb"/>
    <child link="LForearm"/>
    <origin rpy="0 0 0" xyz="-0.015 0.0 -0.1078"/>
    <axis xyz="0 0 1"/>
    <limit effort="5" lower="-1.5708" upper="1.5708" velocity="4.0"/>
    <dynamics damping="0.03" friction="0"/>
  </joint>
  <joint name="LWrj1" type="revolute">
    <parent link="LForearm"/>
    <child link="LWrMot2"/>
    <origin rpy="0 0 0" xyz="0 0 -0.08688"/>
    <axis xyz="0 1 0"/>
    <limit effort="5" lower="-0.524" upper="0.524" velocity="4.0"/>
    <dynamics damping="0.03" friction="0"/>
  </joint>
  <joint name="LWrj2" type="revolute">
    <parent link="LWrMot2"/>
    <child link="LWrMot3"/>
    <origin rpy="0 0 0" xyz="0 0 0.0"/>
    <axis xyz="1 0 0"/>
    <limit effort="5" lower="-0.785375" upper="1.395" velocity="4.0"/>
    <dynamics damping="0.03" friction="0"/>
  </joint>
  <joint name="RForearmPlate" type="revolute">
    <parent link="RElb"/>
    <child link="RForearm"/>
    <origin rpy="0 0 0" xyz="-0.015 0.0 -0.1078"/>
    <axis xyz="0 0 1"/>
    <limit effort="5" lower="-1.5708" upper="1.5708" velocity="4.0"/>
    <dynamics damping="0.03" friction="0"/>
  </joint>
  <joint name="RWrj1" type="revolute">
    <parent link="RForearm"/>
    <child link="RWrMot2"/>
    <origin rpy="0 0 0" xyz="0 0 -0.08688"/>
    <axis xyz="0 1 0"/>
    <limit effort="5" lower="-0.524" upper="0.524" velocity="4.0"/>
    <dynamics damping="0.03" friction="0"/>
  </joint>
  <joint name="RWrj2" type="revolute">
    <parent link="RWrMot2"/>
    <child link="RWrMot3"/>
    <origin rpy="0 0 0" xyz="0 0 0.0"/>
    <axis xyz="1 0 0"/>
    <limit effort="5" lower="-1.395" upper="0.785375" velocity="4.0"/>
    <dynamics damping="0.03" friction="0"/>
  </joint>
  <!-- ************ HANDS ************ -->
  <joint name="l_wrist_joint" type="fixed">
    <parent link="LWrMot3"/>
    <child link="l_wrist"/>
    <origin rpy="0 0 0" xyz="0 0 0"/>
  </joint>
  <joint name="r_wrist_joint" type="fixed">
    <parent link="RWrMot3"/>
    <child link="r_wrist"/>
    <origin rpy="0 0 0" xyz="0 0 0"/>
  </joint>
  <link name="RSoftHand">
    <inertial>
      <origin rpy="0 0 0" xyz="0 0 0"/>
      <mass value="0.3"/>
      <inertia ixx="0.001" ixy="0" ixz="0" iyy="0.001" iyz="0" izz="0.001"/>
    </inertial>
    <visual>
      <origin rpy="0 0 0" xyz="0 0 0"/>
      <geometry>
        <box size="0.07 0.07 0.07"/>
      </geometry>
      <material name="Cyan">
        <color rgba="0 1.0 1.0 1.0"/>
      </material>
    </visual>
    <collision>
      <origin rpy="0 0 0" xyz="0 0 0"/>
      <geometry>
        <box size="0.07 0.07 0.07"/>
      </geometry>
    </collision>
  </link>
  <link name="LSoftHand">
    <inertial>
      <origin rpy="0 0 0" xyz="0 0 0"/>
      <mass value="0.3"/>
      <inertia ixx="0.001" ixy="0" ixz="0" iyy="0.001" iyz="0" izz="0.001"/>
    </inertial>
    <visual>
      <origin rpy="0 0 0" xyz="0 0 0"/>
      <geometry>
        <box size="0.07 0.07 0.07"/>
      </geometry>
      <material name="Cyan">
        <color rgba="0 1.0 1.0 1.0"/>
      </material>
    </visual>
    <collision>
      <origin rpy="0 0 0" xyz="0 0 0"/>
      <geometry>
        <box size="0.07 0.07 0.07"/>
      </geometry>
    </collision>
  </link>
  <joint name="r_handj" type="revolute">
    <parent link="RWrMot3"/>
    <child link="RSoftHand"/>
    <origin rpy="0 0 0" xyz="0 0 -0.04"/>
    <axis xyz="1 0 0"/>
    <limit effort="5" lower="0.0" upper="1.57075" velocity="4.0"/>
    <dynamics damping="3.0" friction="0"/>
  </joint>
  <joint name="l_handj" type="revolute">
    <parent link="LWrMot3"/>
    <child link="LSoftHand"/>
    <origin rpy="0 0 0" xyz="0 0 -0.04"/>
    <axis xyz="1 0 0"/>
    <limit effort="5" lower="-1.57075" upper="0.0" velocity="4.0"/>
    <dynamics damping="3.0" friction="0"/>
  </joint>
</robot>
